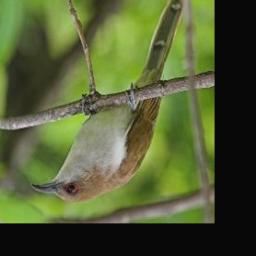Cuckoo: (29, 0, 184, 204)
